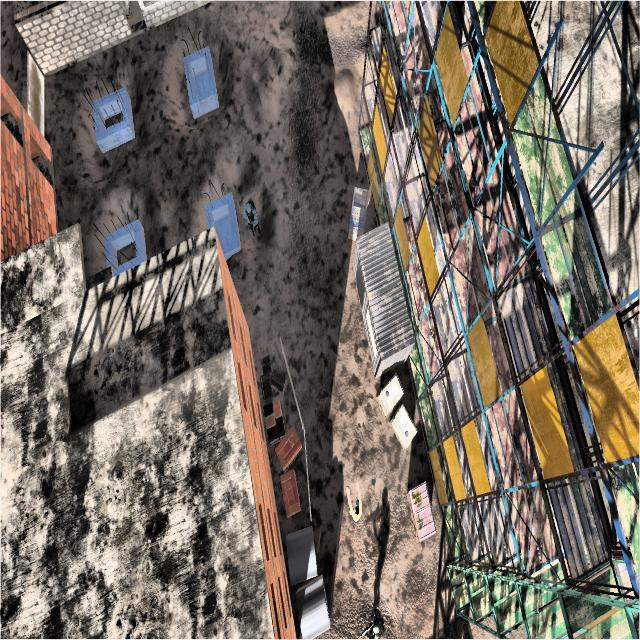bad: (237, 188, 266, 248), (352, 603, 386, 640)
good: (342, 472, 365, 530)
